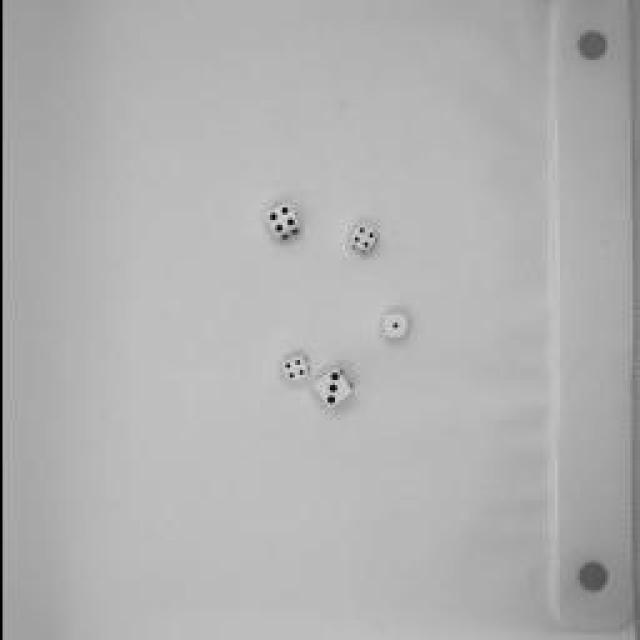dice_1: (374, 305, 411, 343)
dice_3: (305, 365, 355, 410)
dice_4: (258, 198, 302, 248), (272, 350, 310, 385), (345, 220, 380, 258)
